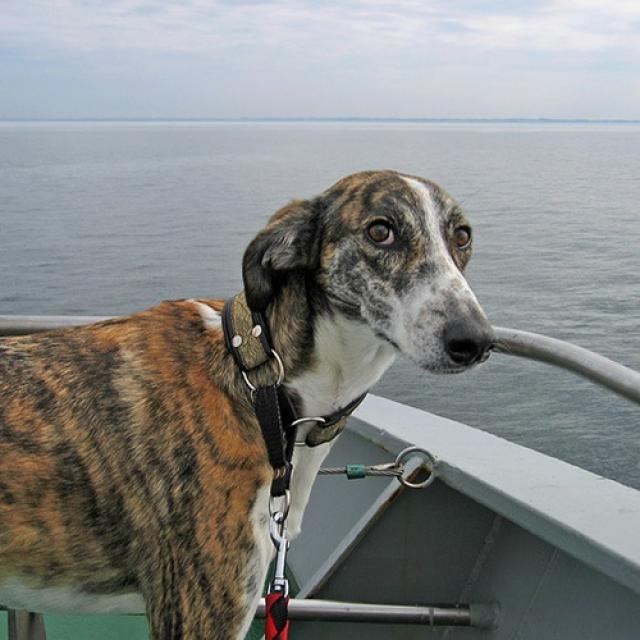dog: (2, 169, 498, 635)
